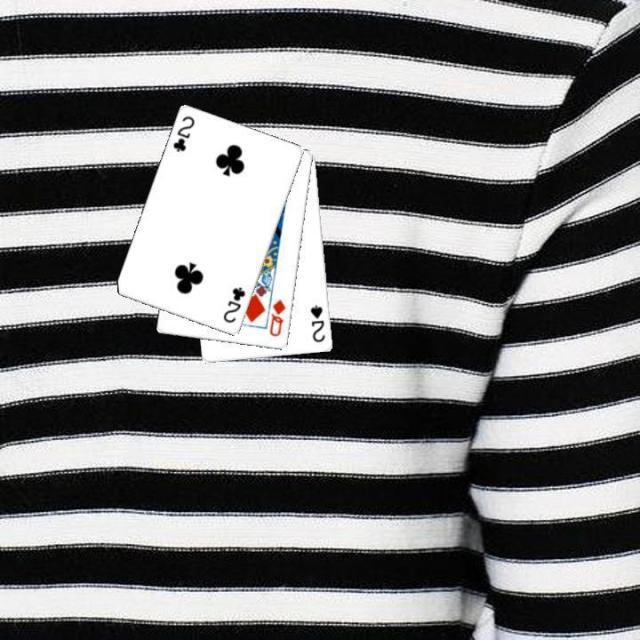2C: (220, 284, 248, 326), (168, 112, 196, 154)
2S: (306, 301, 328, 344)
QD: (266, 296, 288, 339)
